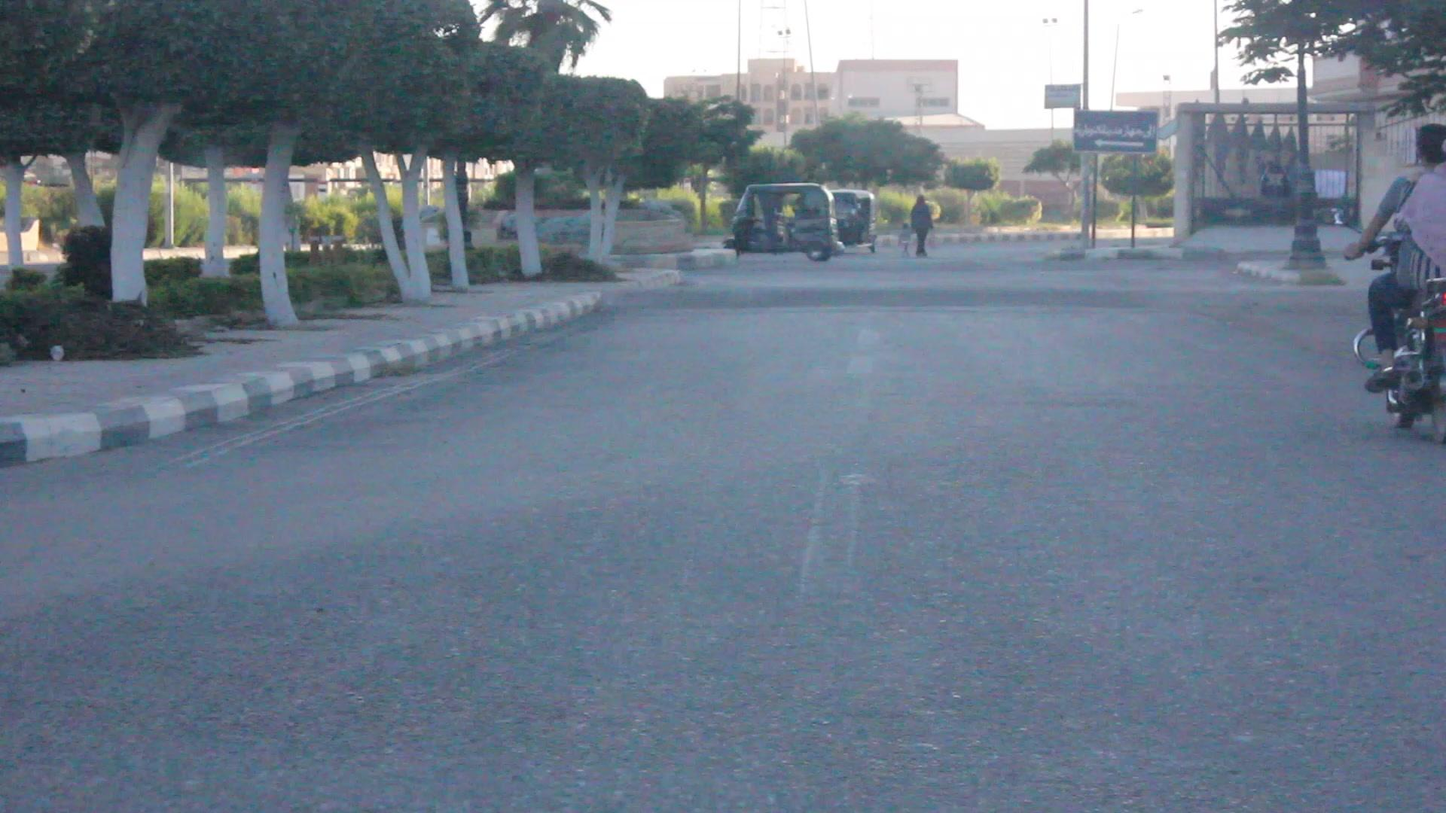Bump: (601, 286, 1369, 312)
